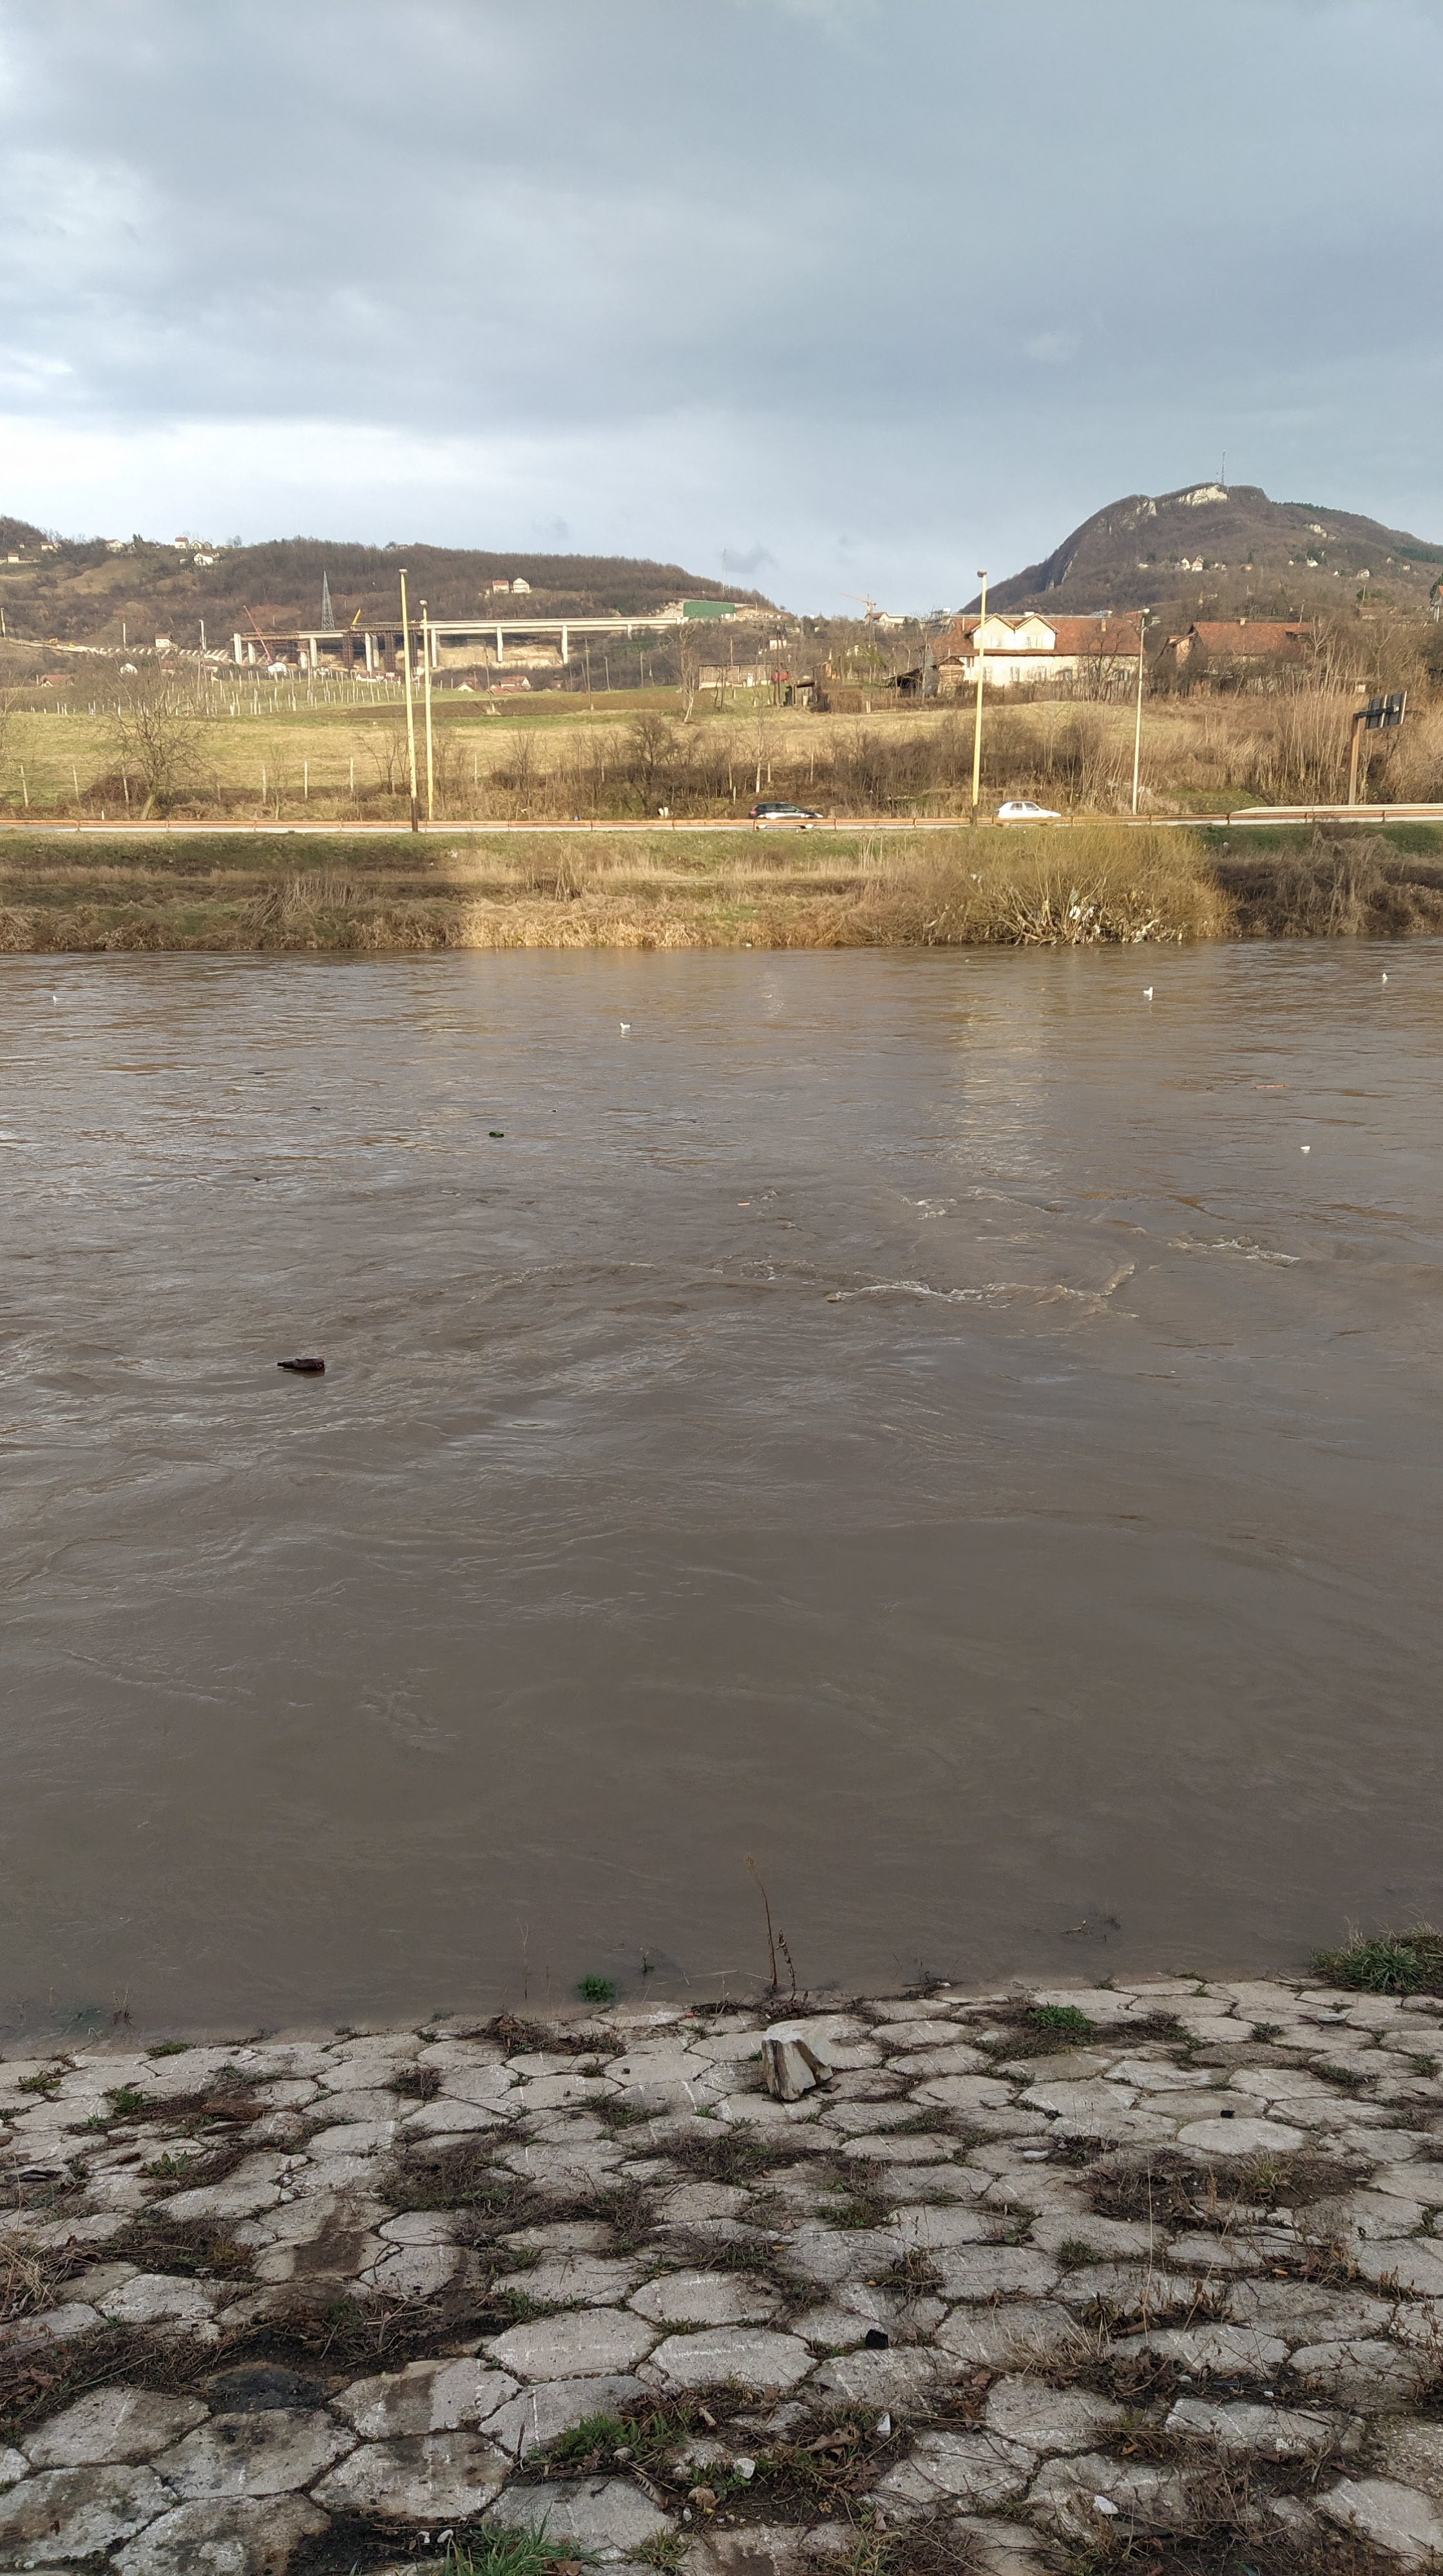Plastic Bottle: (276, 1357, 326, 1371), (489, 1131, 505, 1138), (1300, 1145, 1310, 1150)
